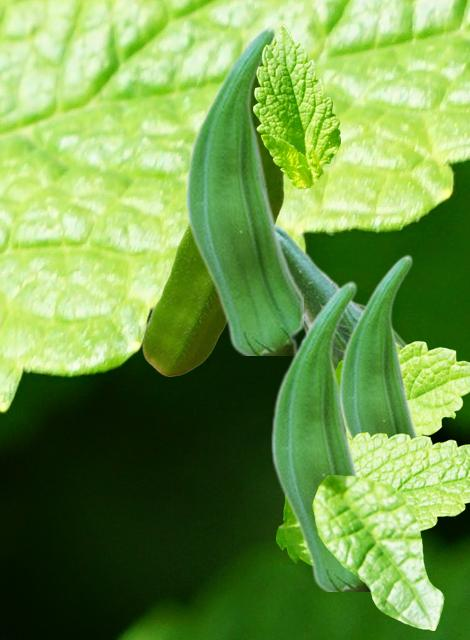okra: (142, 38, 283, 375), (184, 25, 302, 354), (270, 280, 368, 590), (277, 223, 407, 366), (339, 254, 420, 438)
